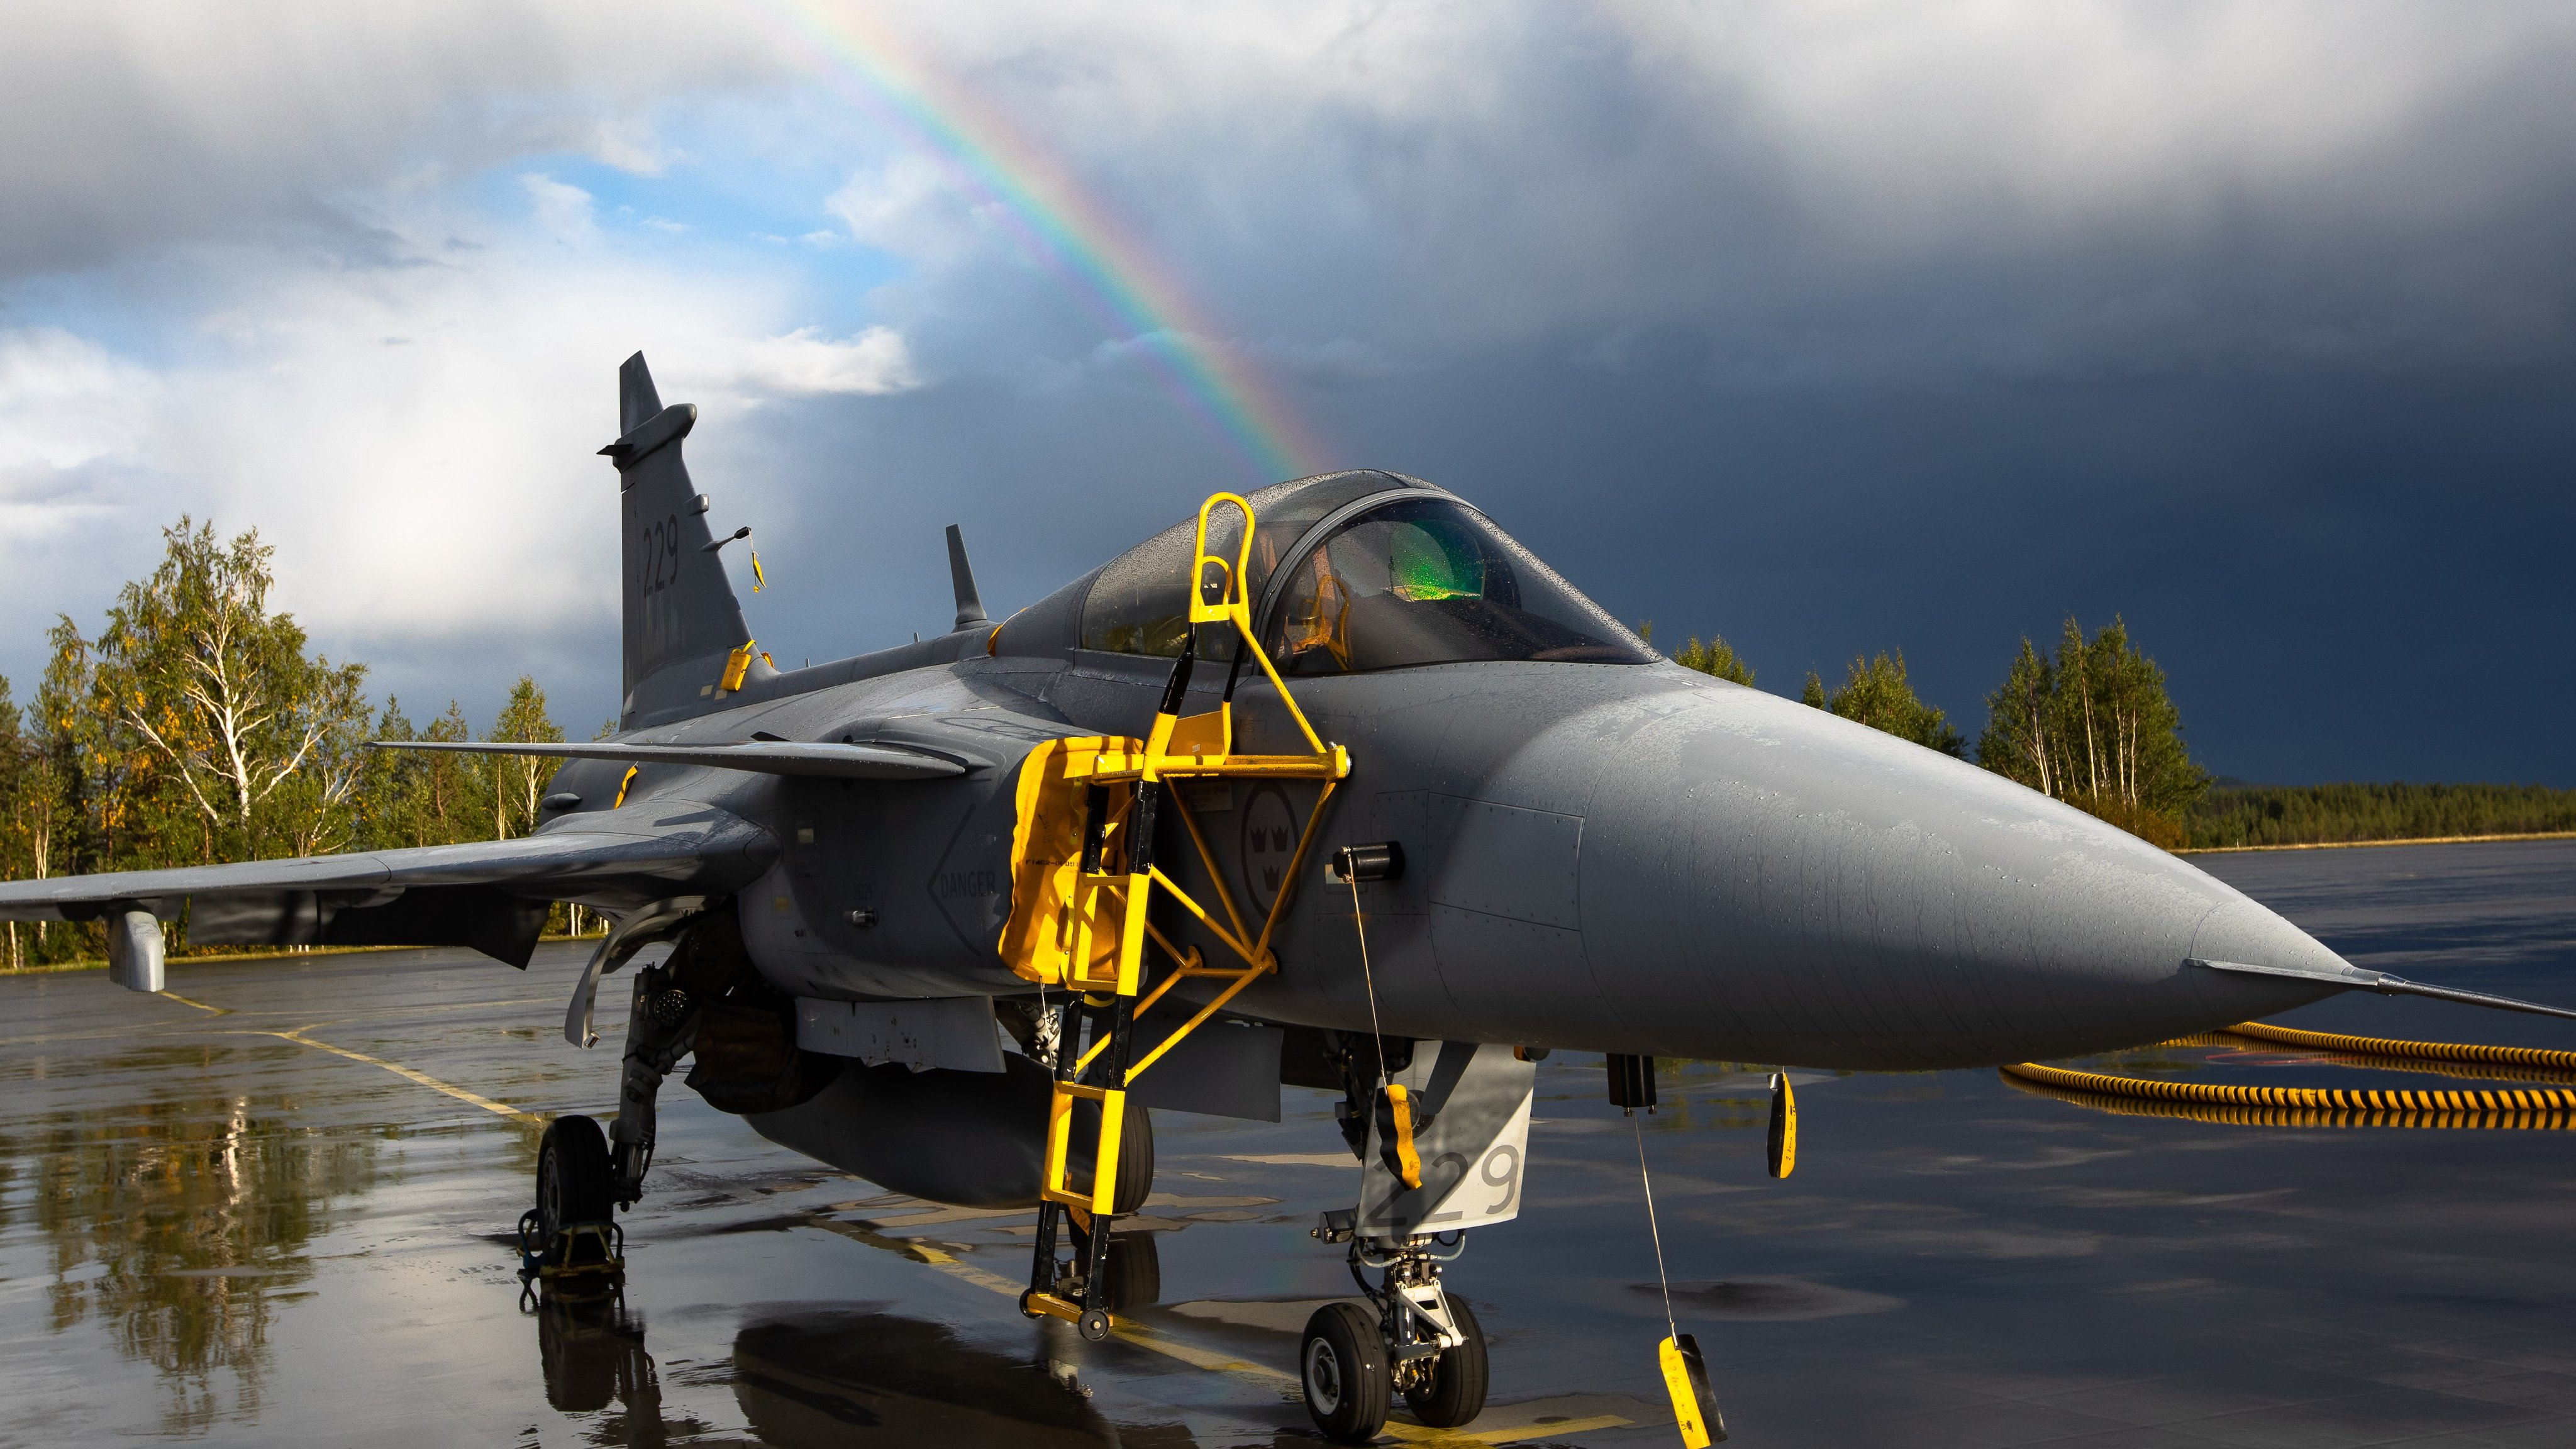JAS39: (0, 349, 2576, 1442)
